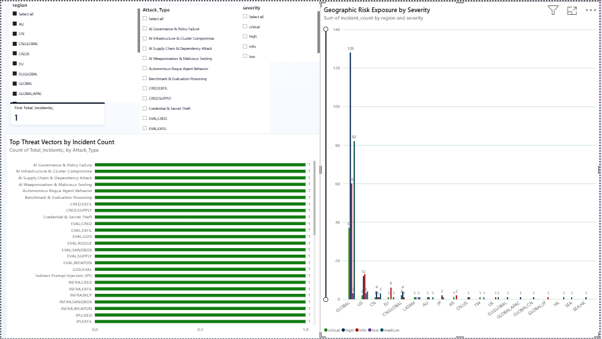

What the dashboard file says about the page in this screenshot:
{"tool":"powerbi","page":{"name":"Page 1","canvas":[1920,1080],"ordinal":0},"visuals":[{"type":"clusteredBarChart","title":"Top Threat Vectors by Incident Count","fields":{"Category":["eda_summary.Attack_Type"],"Y":["CountNonNull(eda_summary.Total_Incidents;;)"]},"box":[13,423.4,1008.7,656.6],"z":0},{"type":"clusteredColumnChart","title":"Geographic Risk Exposure by Severity","fields":{"Category":["regional_grc_summary.region"],"Series":["regional_grc_summary.severity"],"Y":["Sum(regional_grc_summary.incident_count)"]},"box":[1021.7,0,898.6,1080],"z":1000},{"type":"slicer","fields":{"Values":["regional_grc_summary.region"]},"box":[28.1,0,416.9,324],"z":2000},{"type":"slicer","fields":{"Values":["eda_summary.Attack_Type"]},"box":[445,15.1,414.7,408.2],"z":3000},{"type":"slicer","fields":{"Values":["regional_grc_summary.severity"]},"box":[766.8,8.6,254.9,183.6],"z":4000},{"type":"cardVisual","fields":{"Data":["Min(eda_summary.Total_Incidents;;)"]},"box":[27.6,323.1,304,72.3],"z":5000}]}

Visuals, with their boxes on the page's 1920x1080 design canvas (x1, y1, x2, y2). These are canvas units, not pixel positions in the 602x339 screenshot, which may show the page scaled, cropped or inside an application window:
"Top Threat Vectors by Incident Count" clusteredBarChart: detection(13, 423, 1022, 1080)
"Geographic Risk Exposure by Severity" clusteredColumnChart: detection(1022, 0, 1920, 1080)
slicer - regional_grc_summary.region: detection(28, 0, 445, 324)
slicer - eda_summary.Attack_Type: detection(445, 15, 860, 423)
slicer - regional_grc_summary.severity: detection(767, 9, 1022, 192)
cardVisual - Min(eda_summary.Total_Incidents;;): detection(28, 323, 332, 395)
